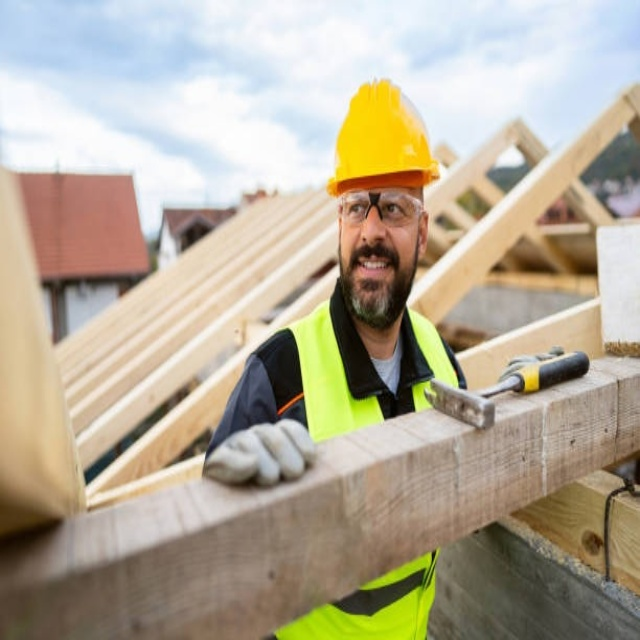Gafas: (339, 187, 429, 226)
Guantes: (206, 419, 320, 488)
Sin_mascara: (351, 245, 395, 296)
